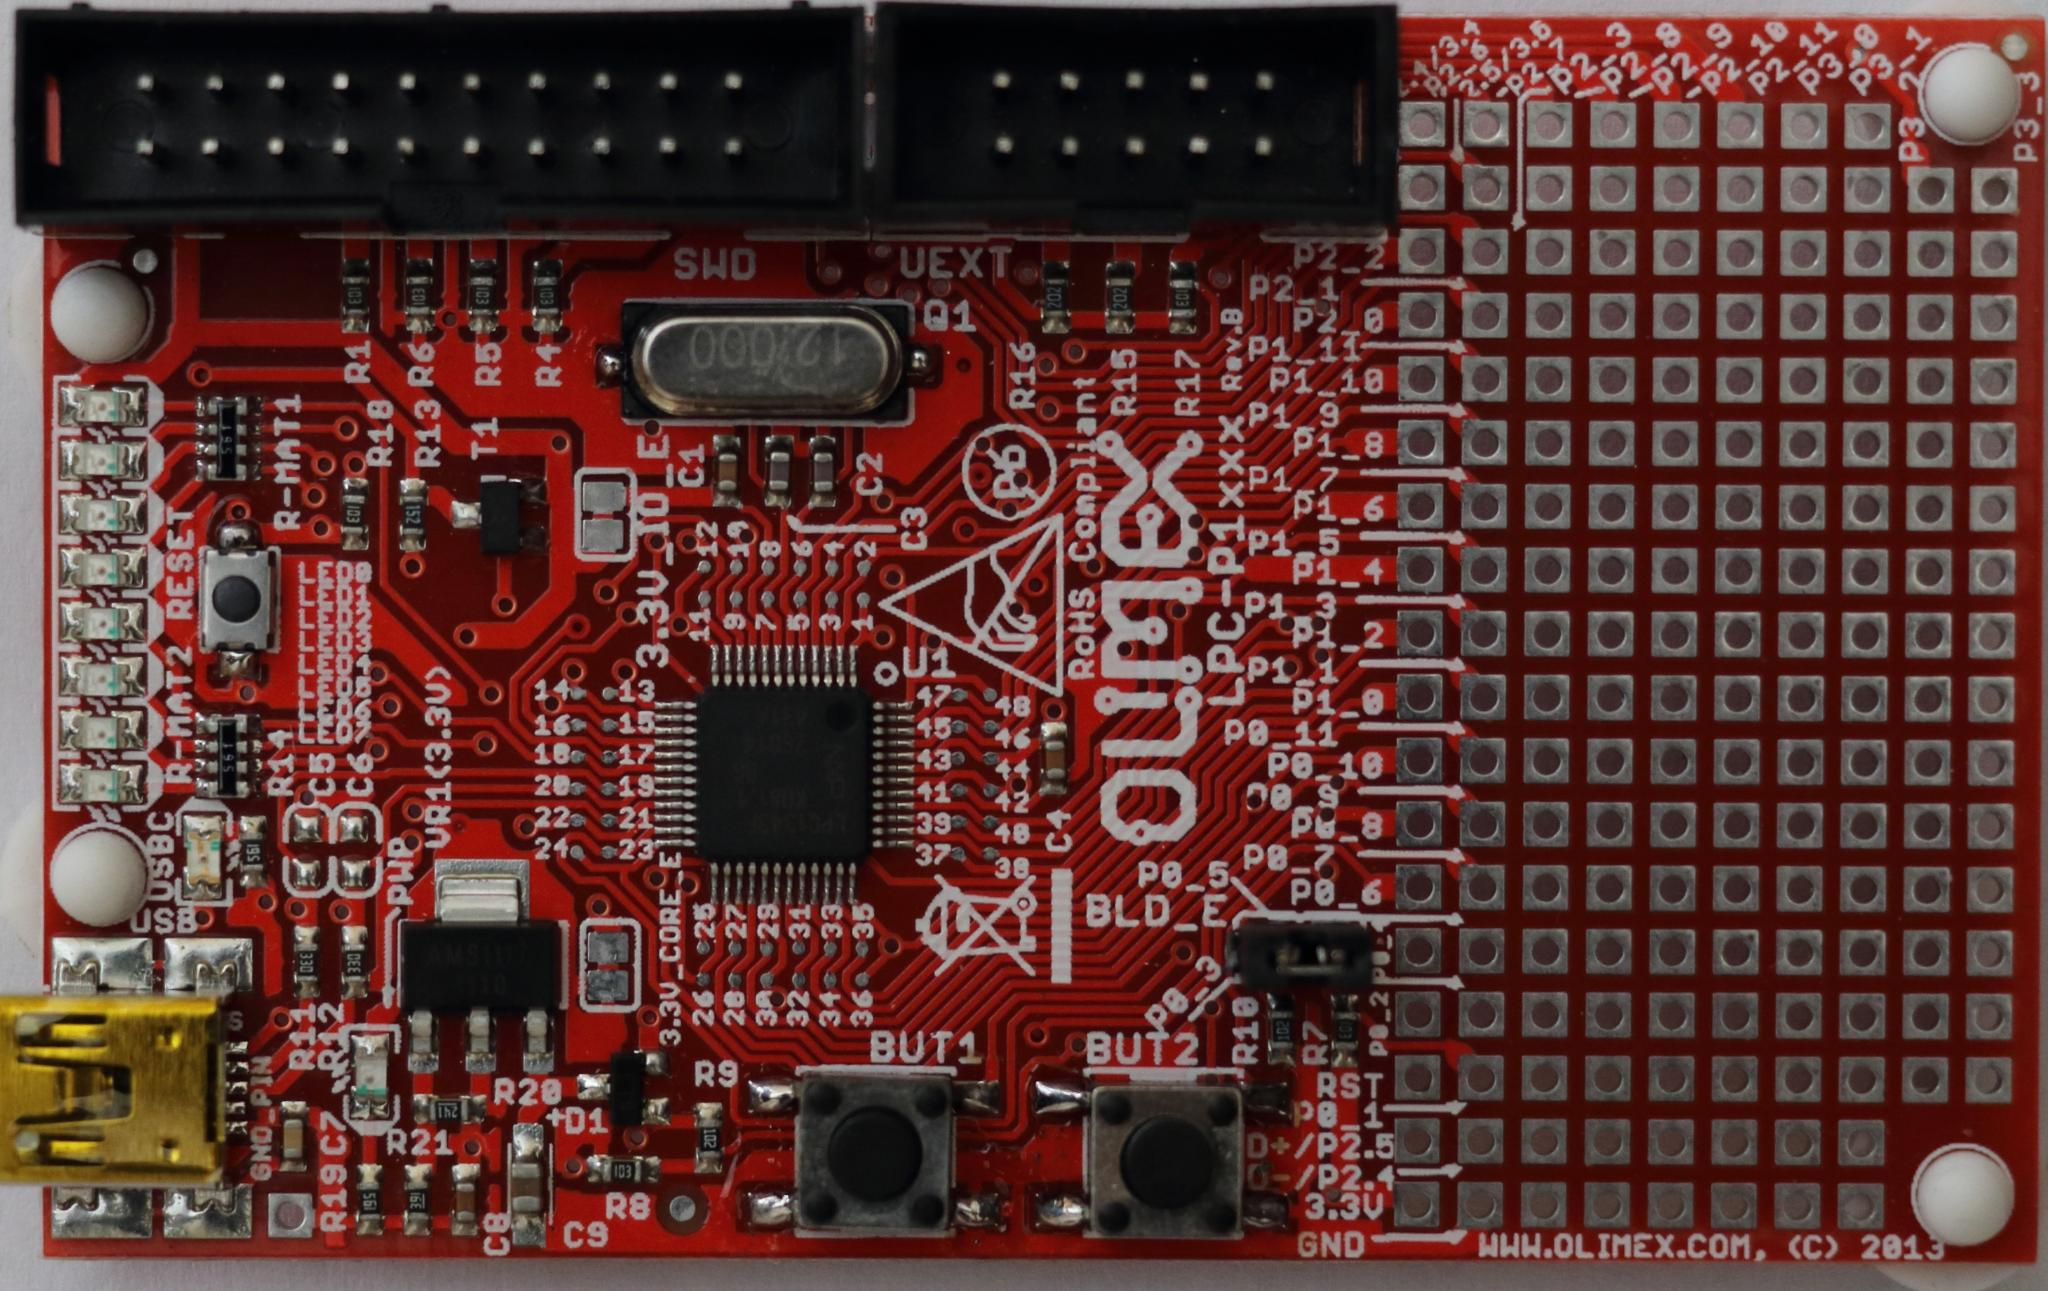tranzystor: (446, 473, 549, 564)
